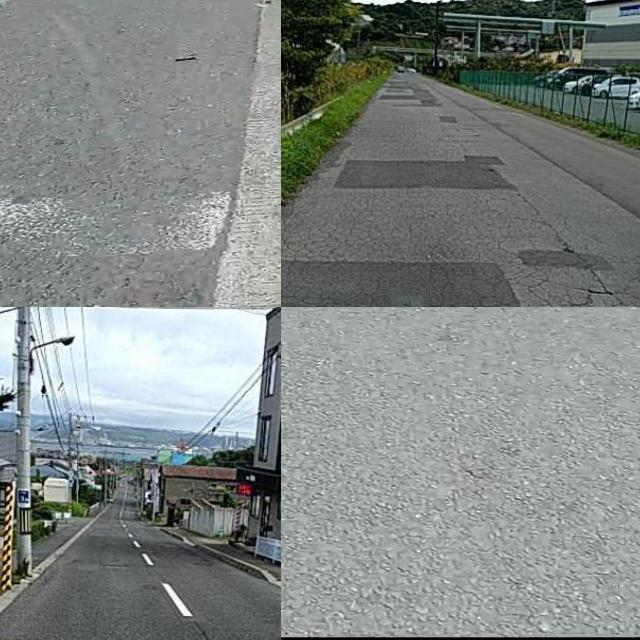Sambungan: (334, 155, 514, 192)
